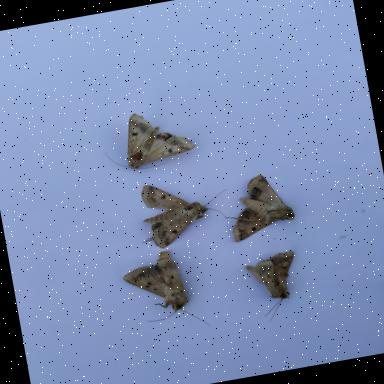abw: (118, 244, 214, 342), (130, 170, 237, 252), (97, 102, 200, 176), (217, 169, 299, 245), (244, 249, 308, 326)
